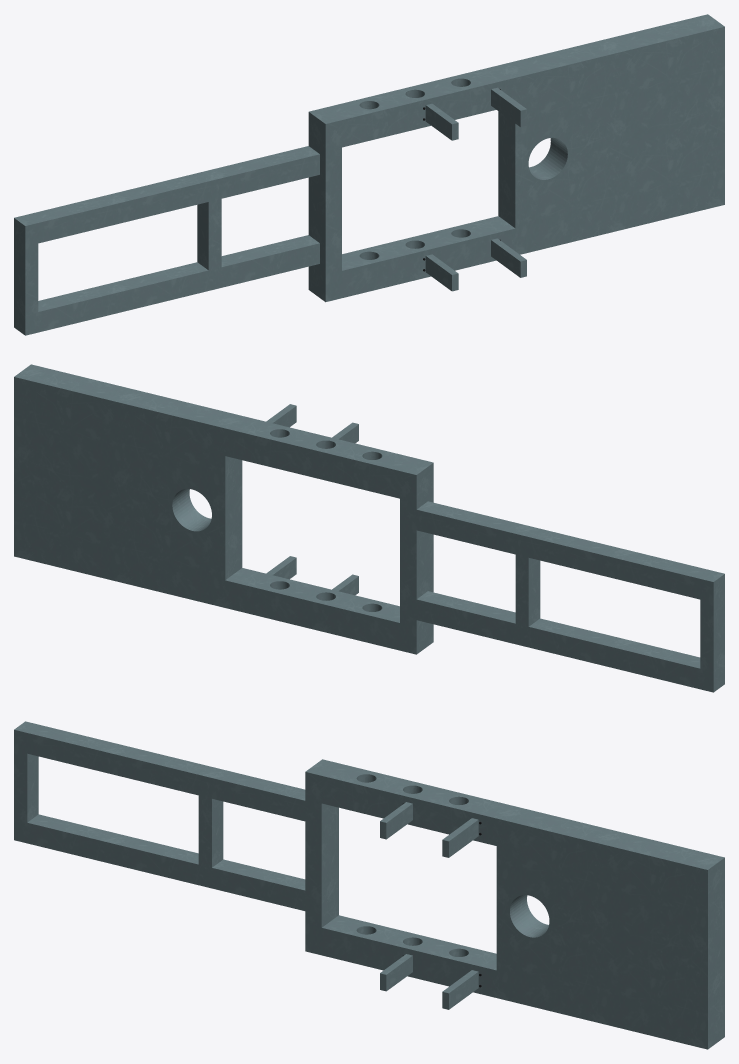
The model's file is bedplate.glb.
The picture shows the model from 3 angles, top to bottom: view 1: azimuth 30°, elevation 25°; view 2: azimuth 150°, elevation 25°; view 3: azimuth 330°, elevation 25°; orthographic projection.
Visible parts, largest first — view 1: bedplate; view 2: bedplate; view 3: bedplate.
Part boxes in pixels (bbox=[...]): bedplate: bbox=[14, 14, 724, 335]; bedplate: bbox=[14, 364, 724, 692]; bedplate: bbox=[14, 721, 724, 1049].
Bounding box in the file's own units: 10.6 × 2.6 × 1.23.
2 materials, 1 textured.
